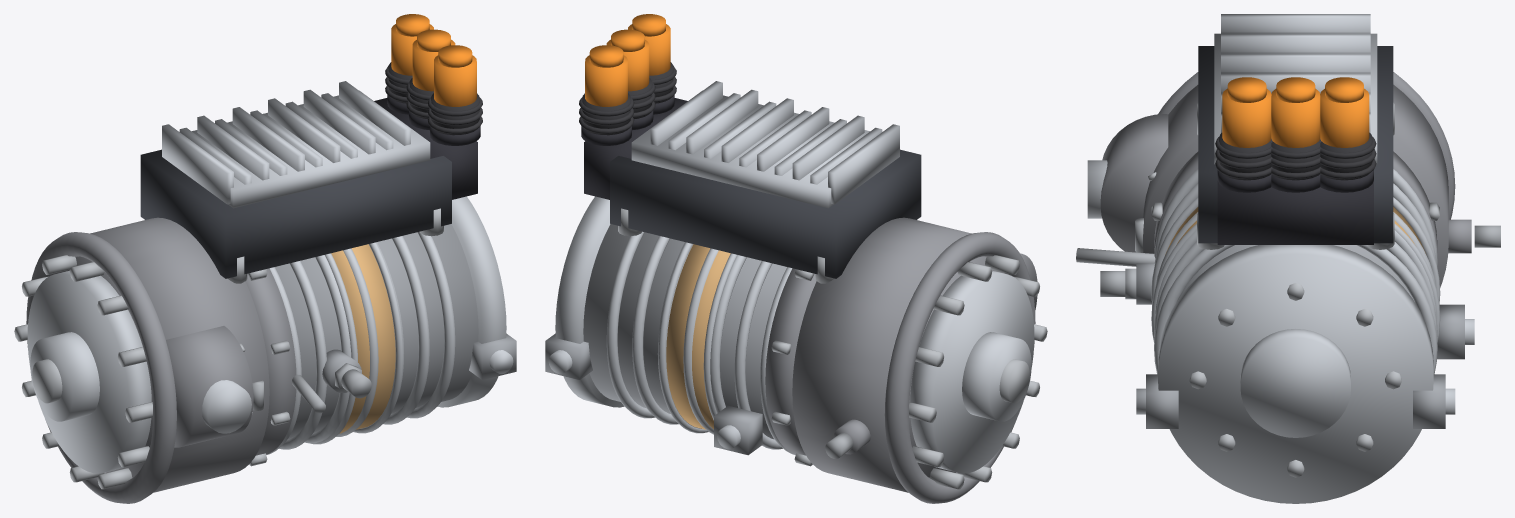
Rendered from motor.glb.
3 renders of one model, left to right at view 1: azimuth 30°, elevation 25°; view 2: azimuth 150°, elevation 25°; view 3: azimuth 270°, elevation 25°, orthographic. The views are drawn at different scales.
Visible parts, largest first — view 1: motor; view 2: motor; view 3: motor.
Boxes of the visible parts, x1=… form: motor: x1=14, y1=14, x2=516, y2=503; motor: x1=545, y1=14, x2=1047, y2=503; motor: x1=1076, y1=14, x2=1500, y2=503.
Bounding box in the file's own units: 0.8525 × 0.7311 × 0.6526.
4 materials, 4 textured.
